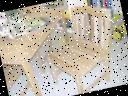Mesa: (0, 4, 81, 95)
Silla: (37, 0, 127, 95)
